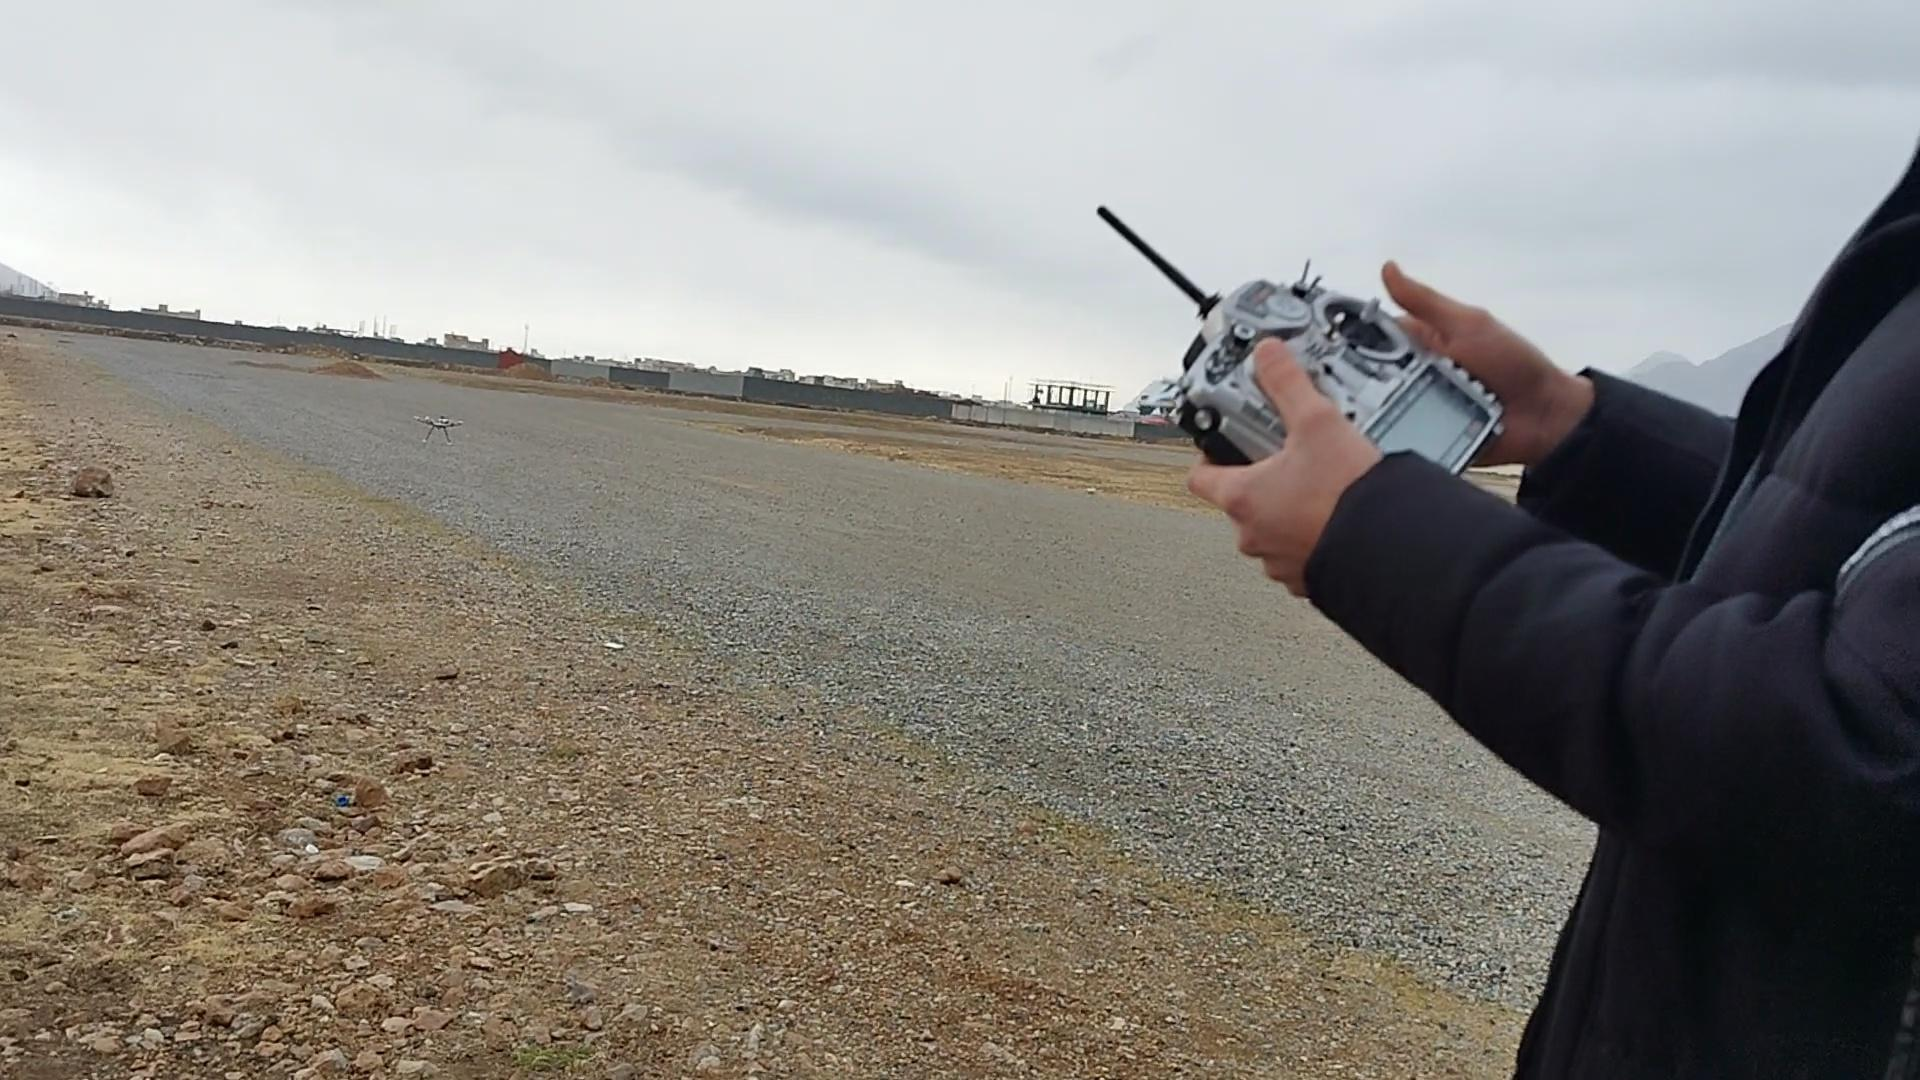drone: (411, 407, 473, 448)
